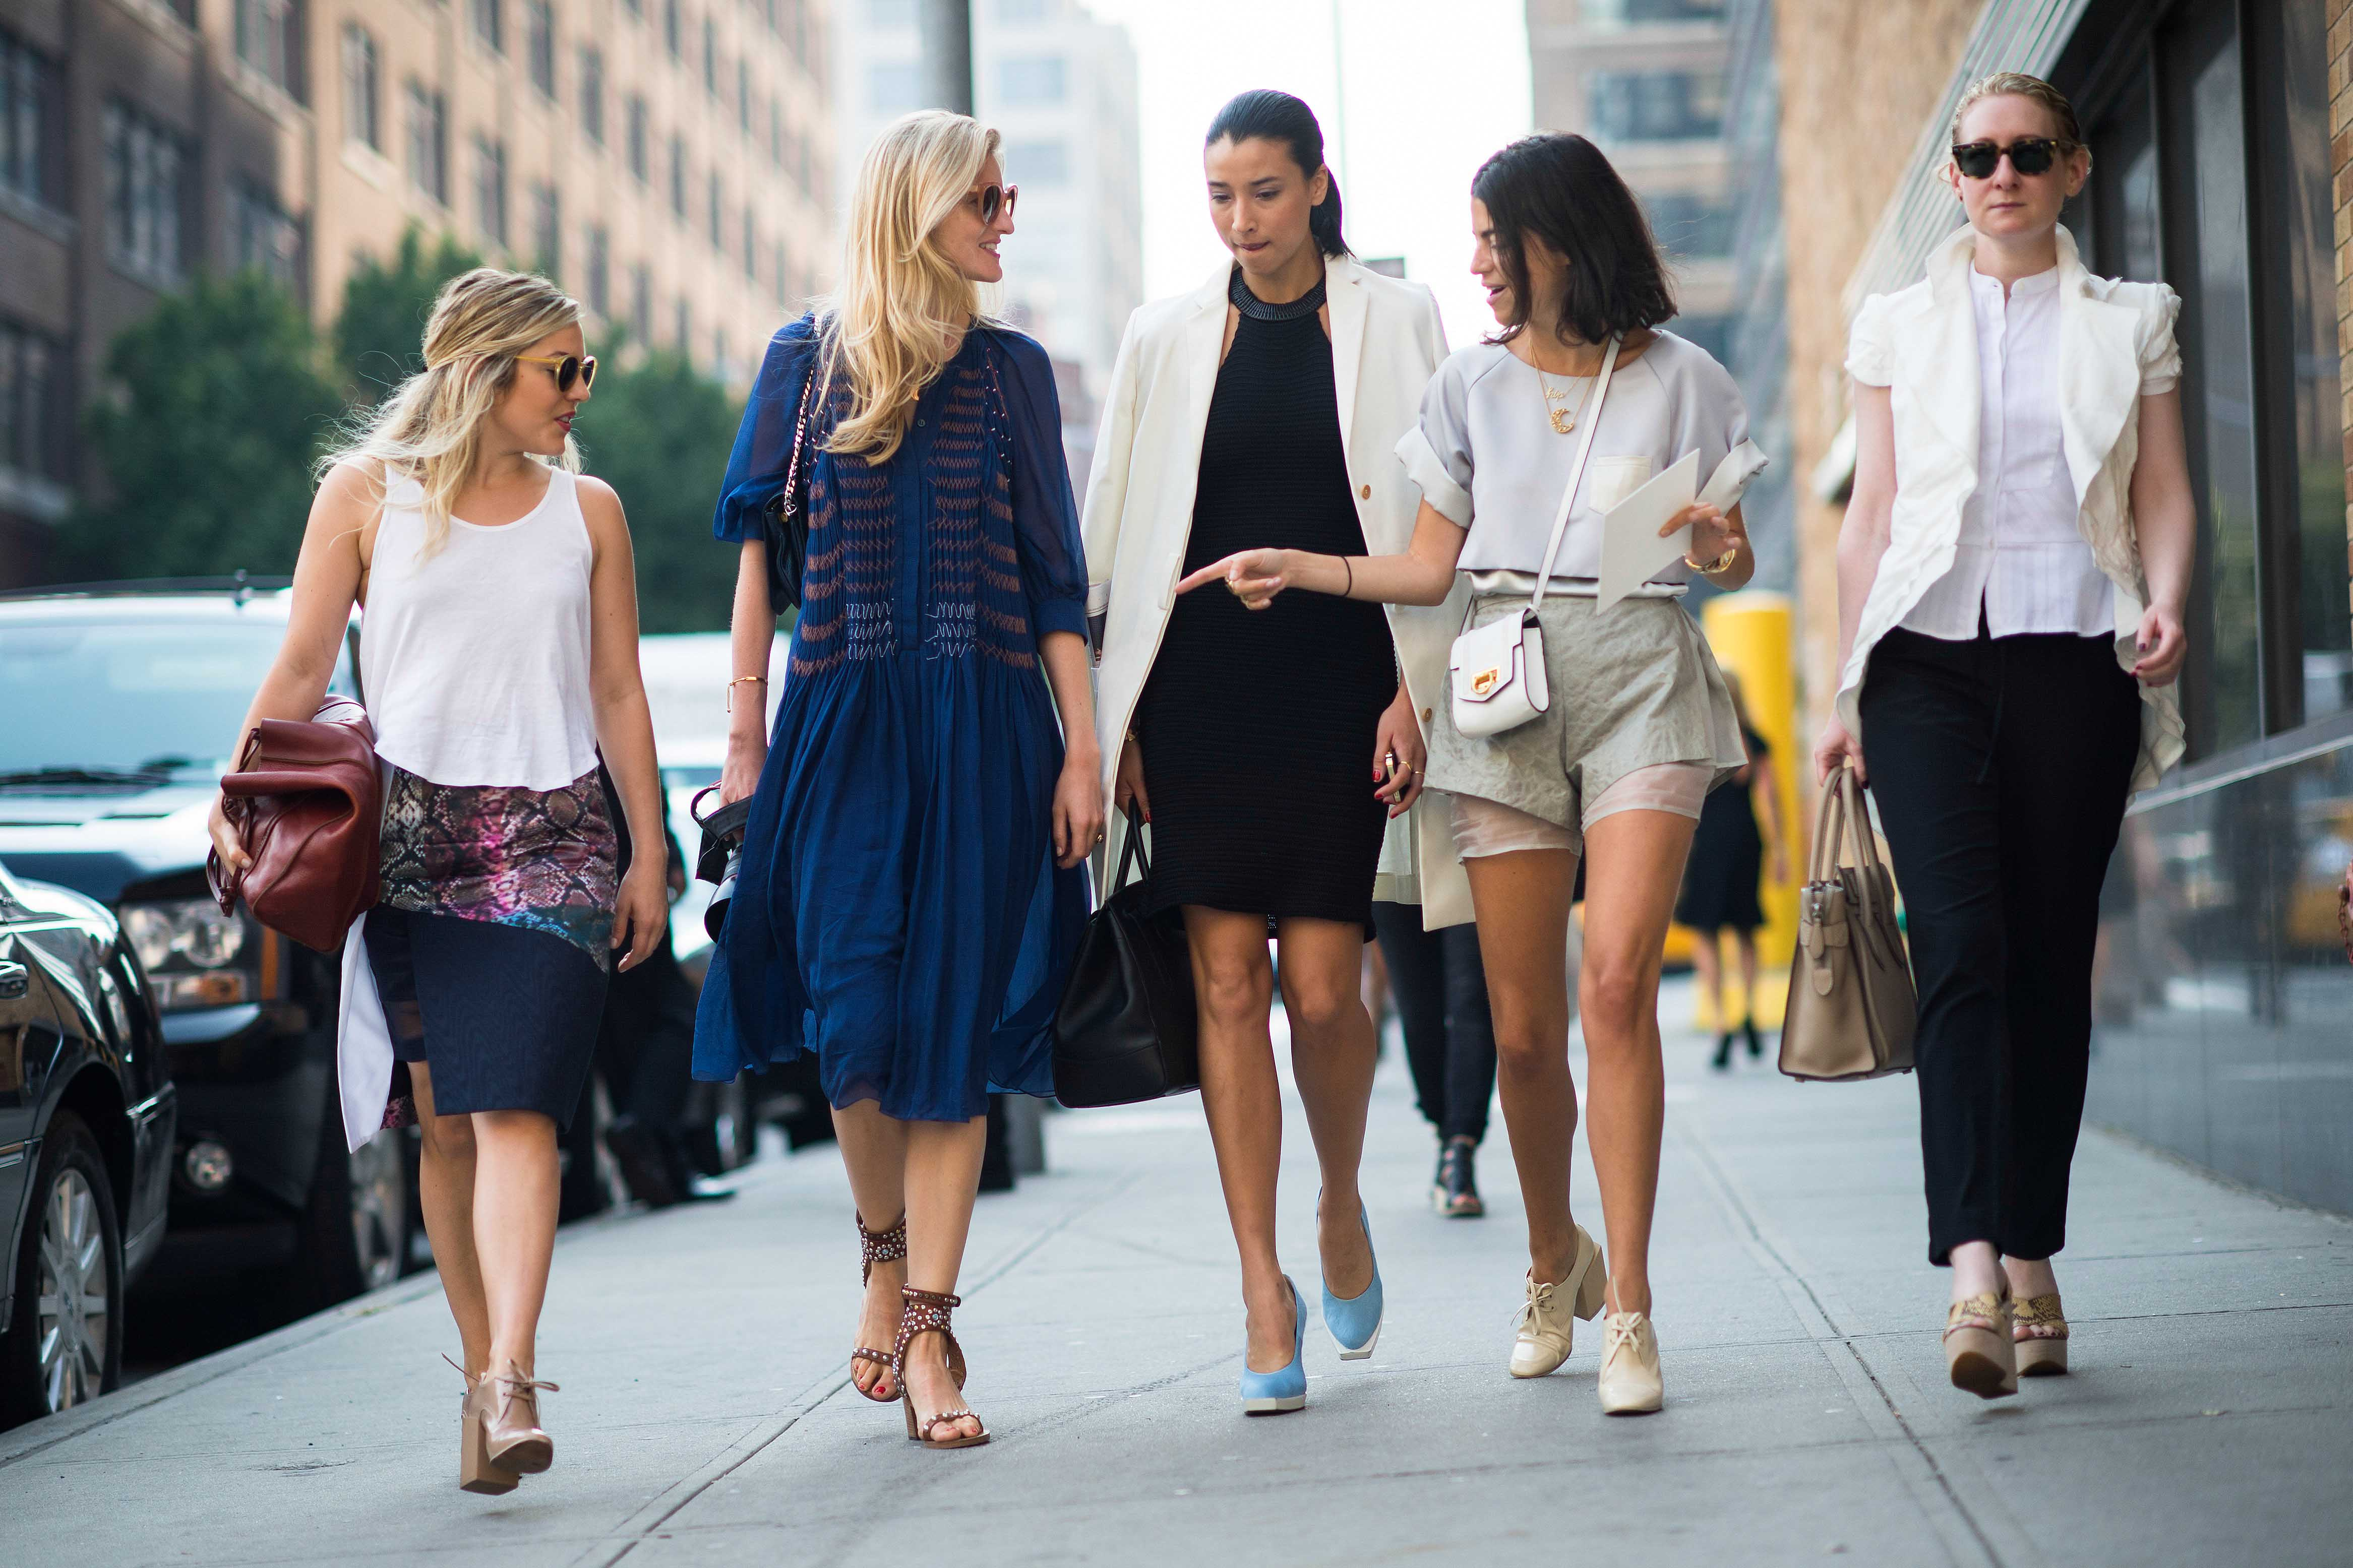Person: (1195, 107, 1788, 1515), (195, 196, 699, 1540), (741, 70, 1145, 1468), (1792, 61, 2200, 1430), (1065, 74, 1469, 1439)
